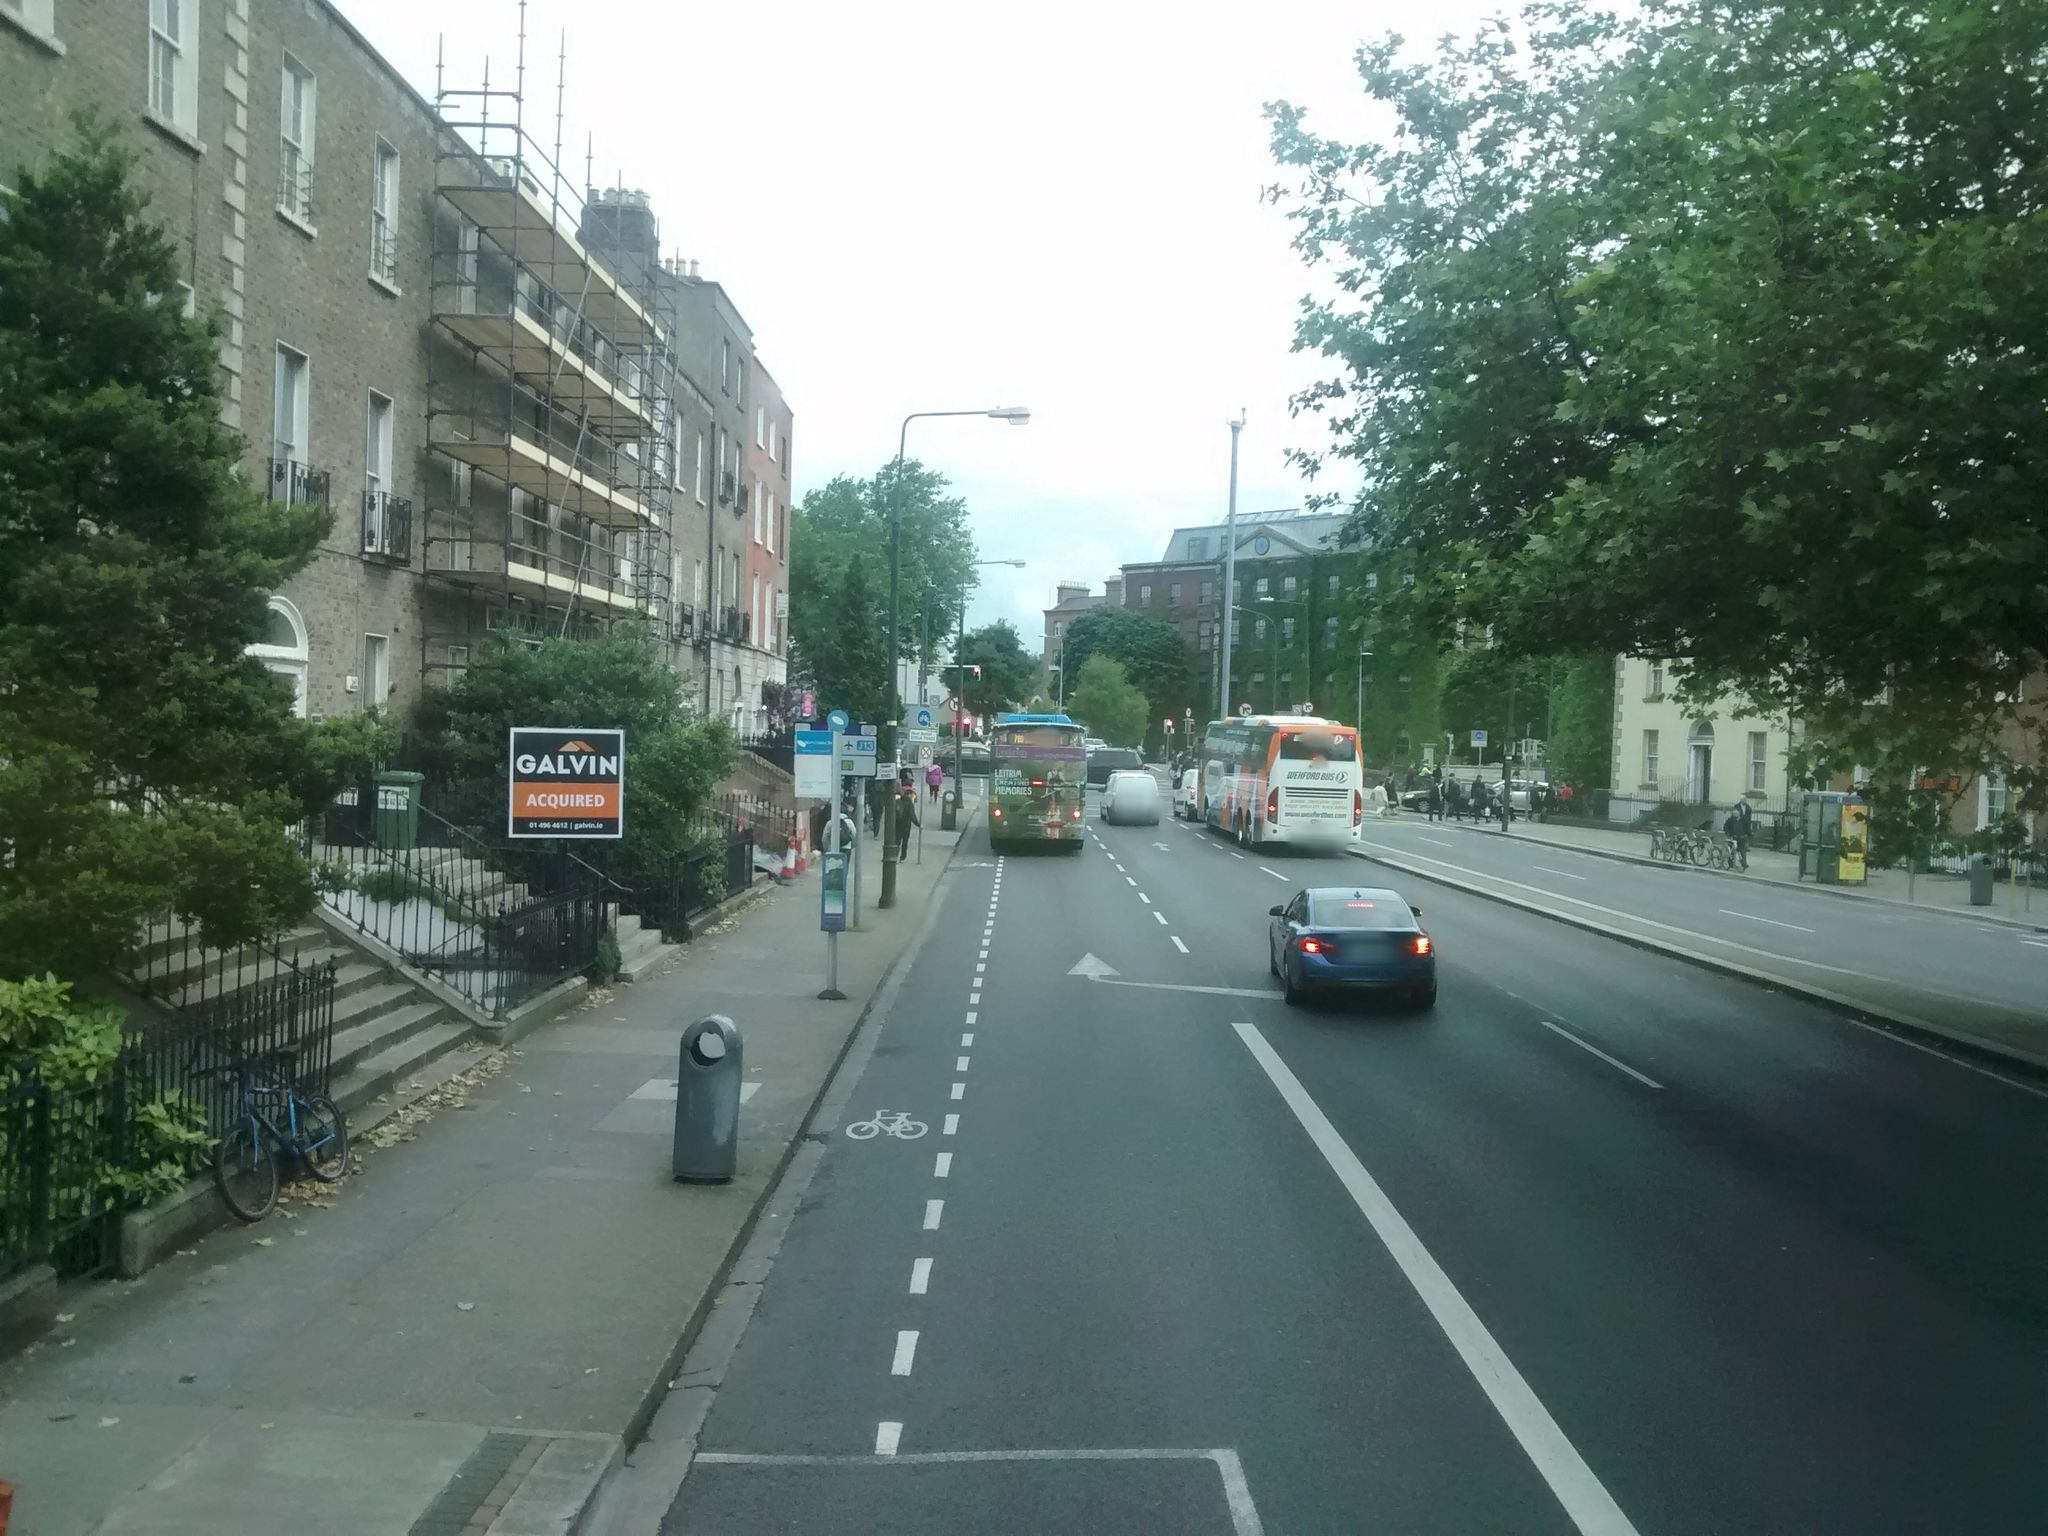property sign: (495, 708, 627, 845)
